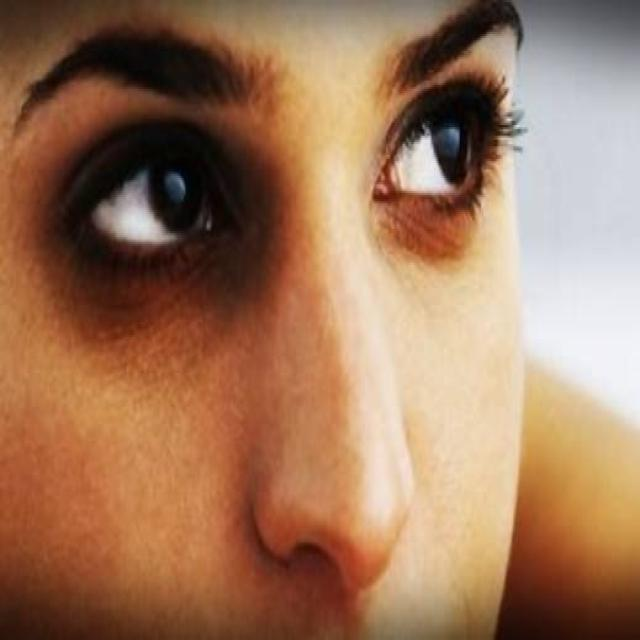Eyebags: (28, 114, 302, 392), (368, 75, 488, 268)
